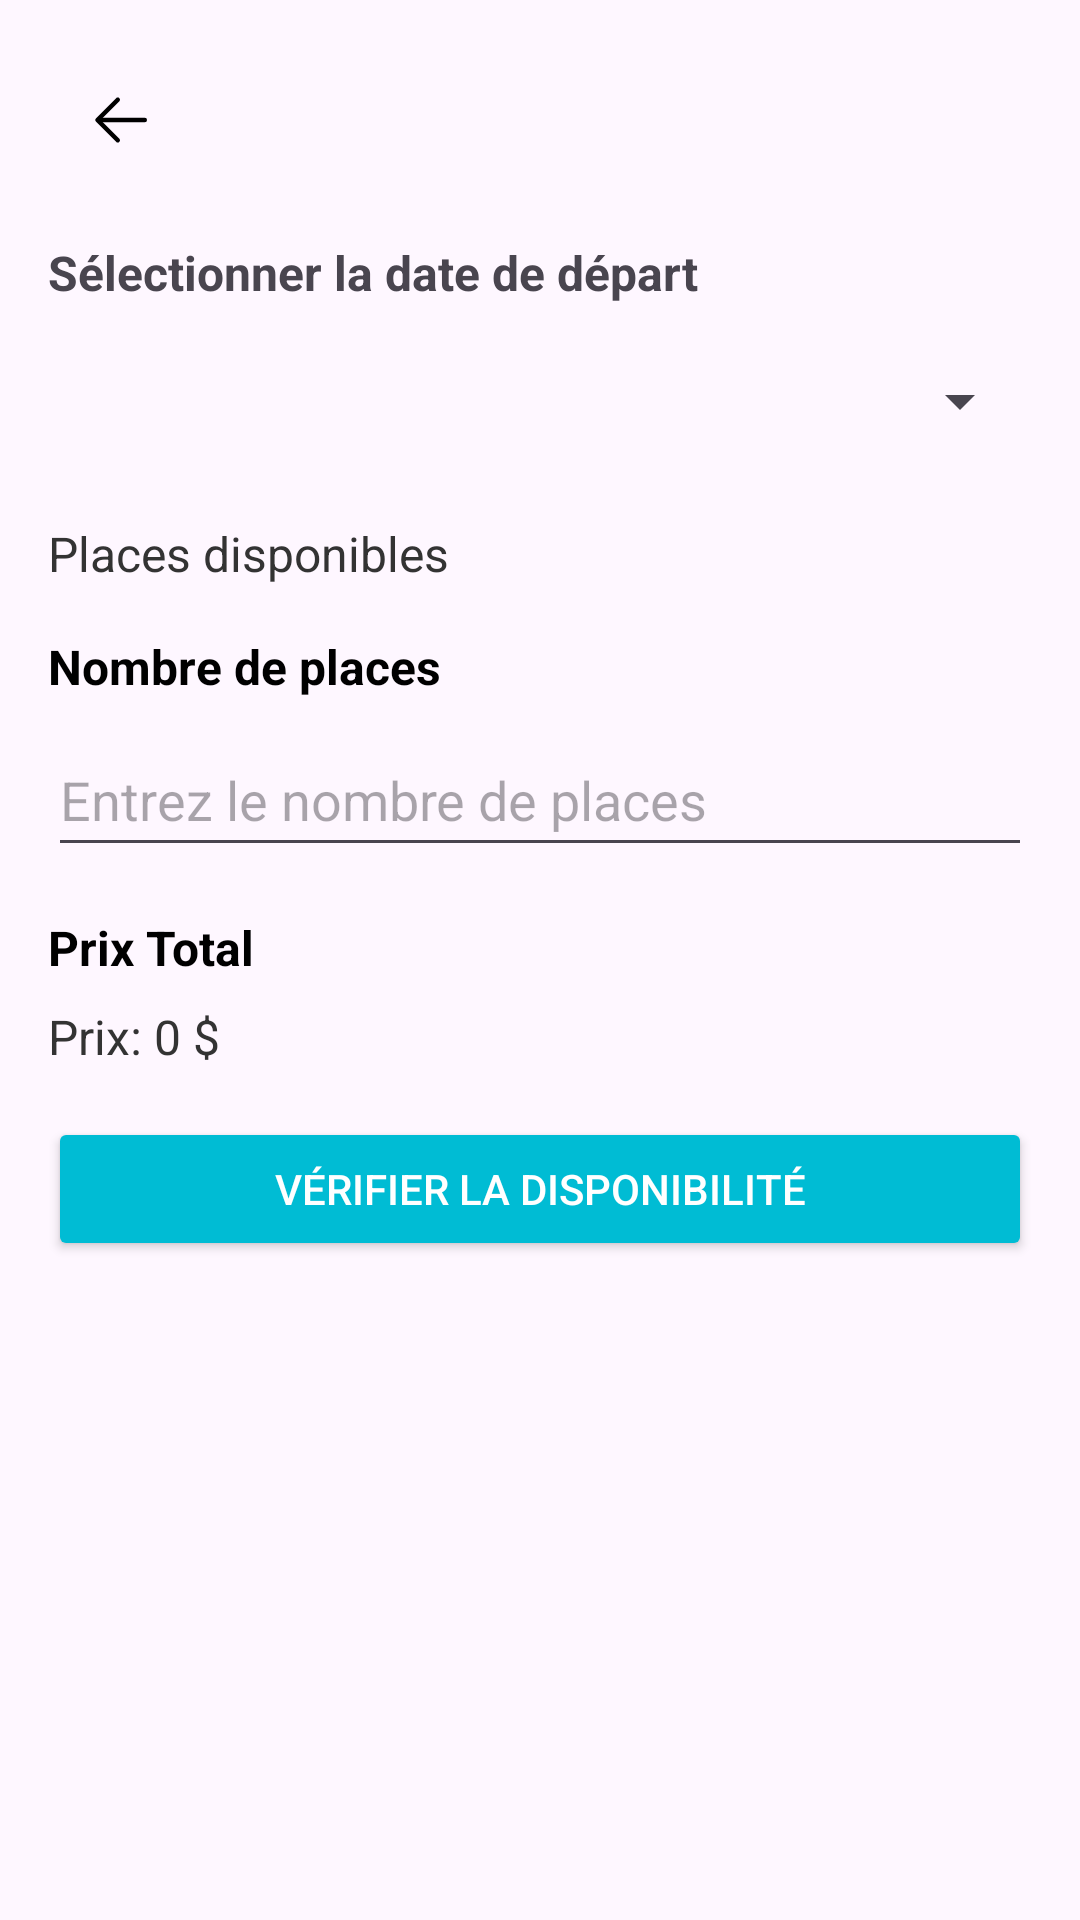

Where icons sit on this 1080x1920 app screen, as bbox(x1, y1, x2, y2):
Back Button: bbox(95, 97, 147, 143)
